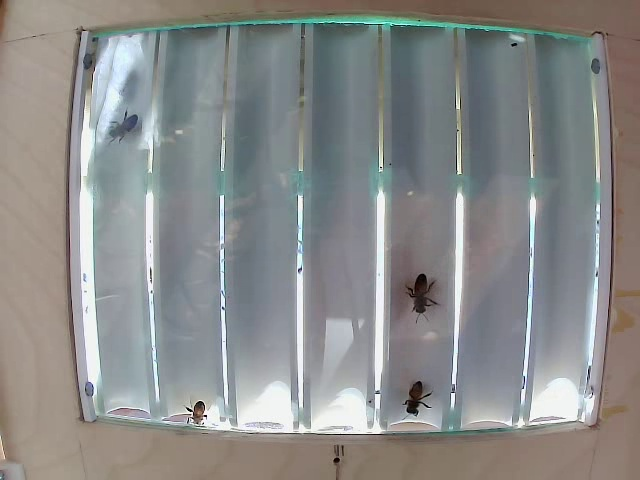bee: (406, 272, 437, 327), (399, 373, 438, 414), (184, 398, 218, 432), (111, 108, 141, 146)
